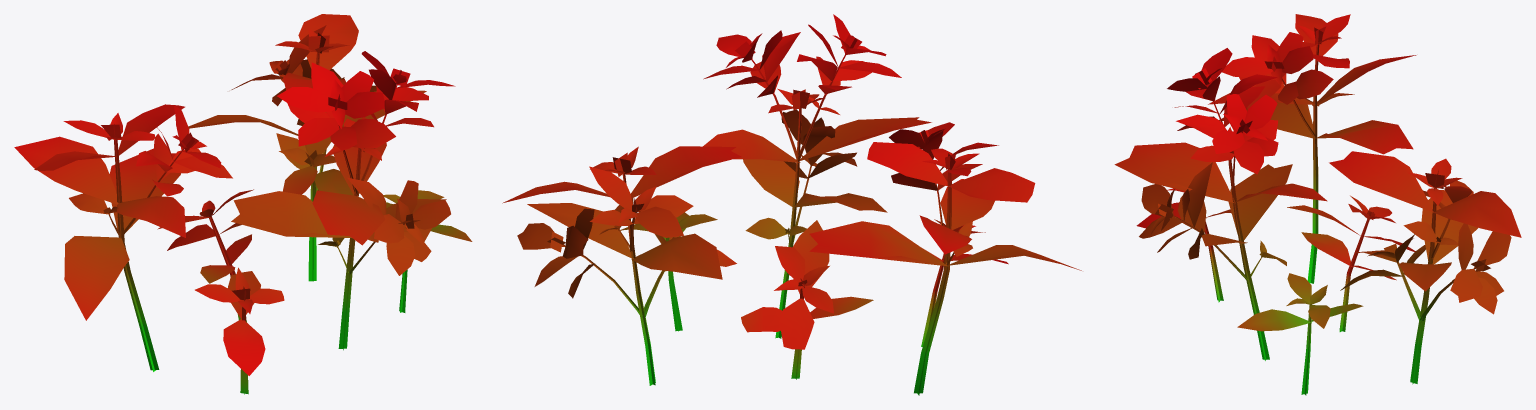
The model's file is Common Hemp Nettle_LOD5_Var7_xh1kdfbqx.fbx.
The picture shows the model from 3 angles, left to right: view 1: azimuth 30°, elevation 25°; view 2: azimuth 150°, elevation 25°; view 3: azimuth 270°, elevation 25°; orthographic projection. The views are drawn at different scales.
Parts seen in each view (by area): view 1: _hxye_Var7_LOD5; view 2: _hxye_Var7_LOD5; view 3: _hxye_Var7_LOD5.
Boxes of the visible parts, x1,y1,x2,y2 form: _hxye_Var7_LOD5: (14, 14, 472, 394); _hxye_Var7_LOD5: (502, 14, 1081, 395); _hxye_Var7_LOD5: (1114, 14, 1521, 395).
Bounding box in the file's own units: 96.94 × 61.49 × 80.45.
